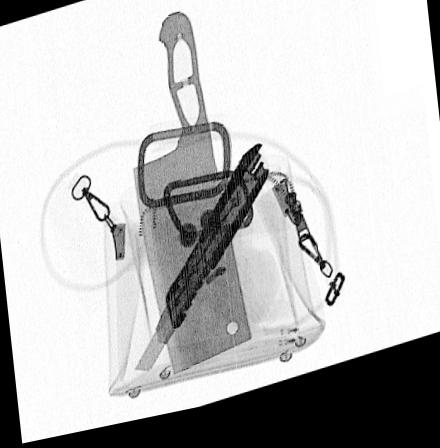Knife: (131, 18, 252, 383), (133, 153, 269, 377)
